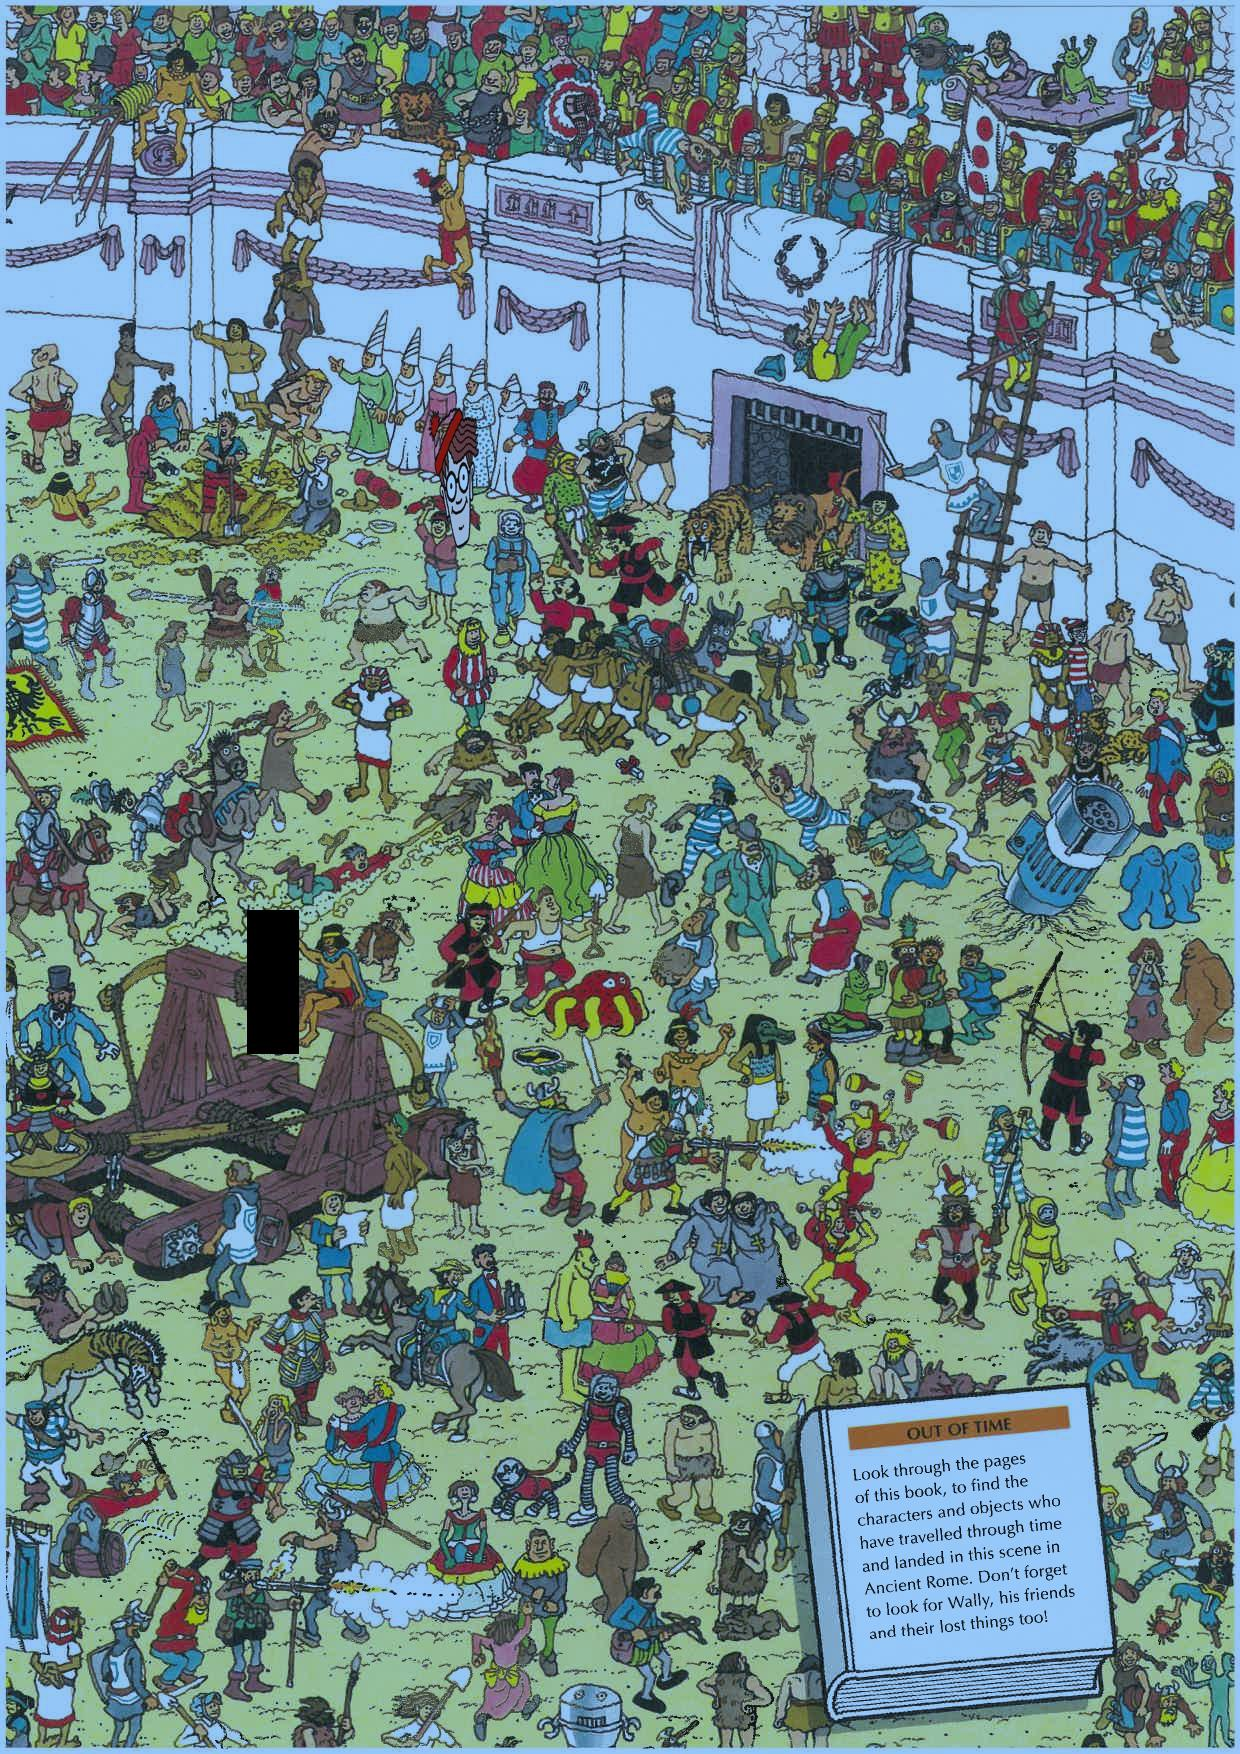waldos: (429, 407, 480, 552)
